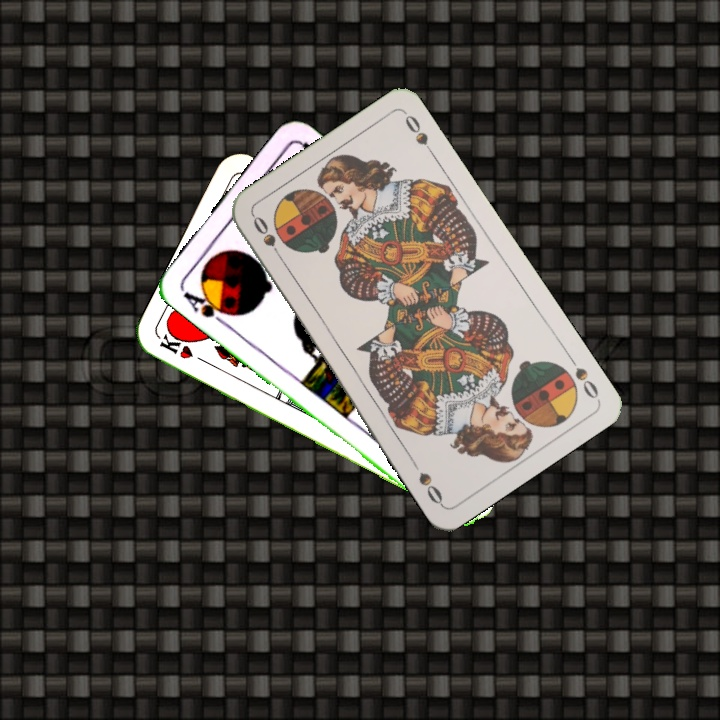HK: (155, 329, 212, 367)
SA: (179, 284, 235, 328)
SO: (248, 212, 287, 265), (563, 350, 602, 402)
